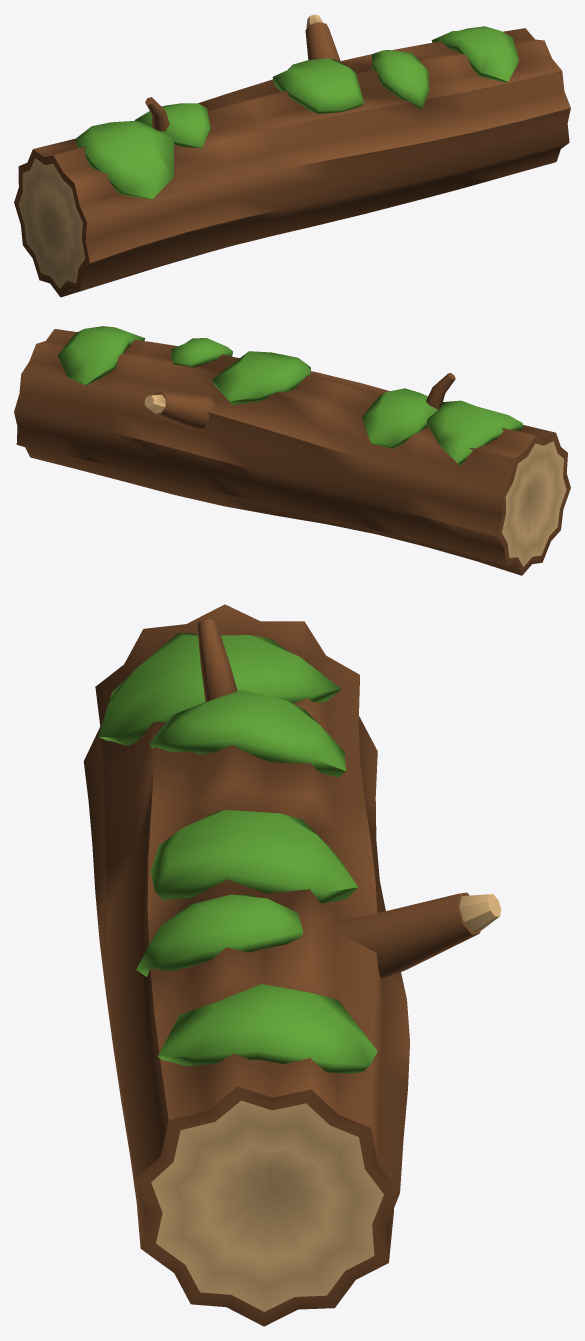
The model's file is log.glb.
3 renders of one model, top to bottom at view 1: azimuth 30°, elevation 25°; view 2: azimuth 150°, elevation 25°; view 3: azimuth 270°, elevation 25°, orthographic. The views are drawn at different scales.
Visible parts, largest first — view 1: Log Log bark, Log Log moss, Log Log heartwood; view 2: Log Log bark, Log Log moss, Log Log heartwood; view 3: Log Log bark, Log Log moss, Log Log heartwood.
Boxes of the visible parts, x1=… form: Log Log bark: x1=14, y1=22, x2=570, y2=297; Log Log moss: x1=75, y1=26, x2=519, y2=199; Log Log heartwood: x1=18, y1=14, x2=323, y2=288; Log Log bark: x1=14, y1=329, x2=570, y2=575; Log Log moss: x1=57, y1=326, x2=523, y2=465; Log Log heartwood: x1=144, y1=394, x2=566, y2=566; Log Log bark: x1=83, y1=604, x2=480, y2=1326; Log Log moss: x1=98, y1=632, x2=377, y2=1073; Log Log heartwood: x1=151, y1=894, x2=501, y2=1311.
Size of the model in its own units: 2.6 by 0.8809 by 0.9837.
